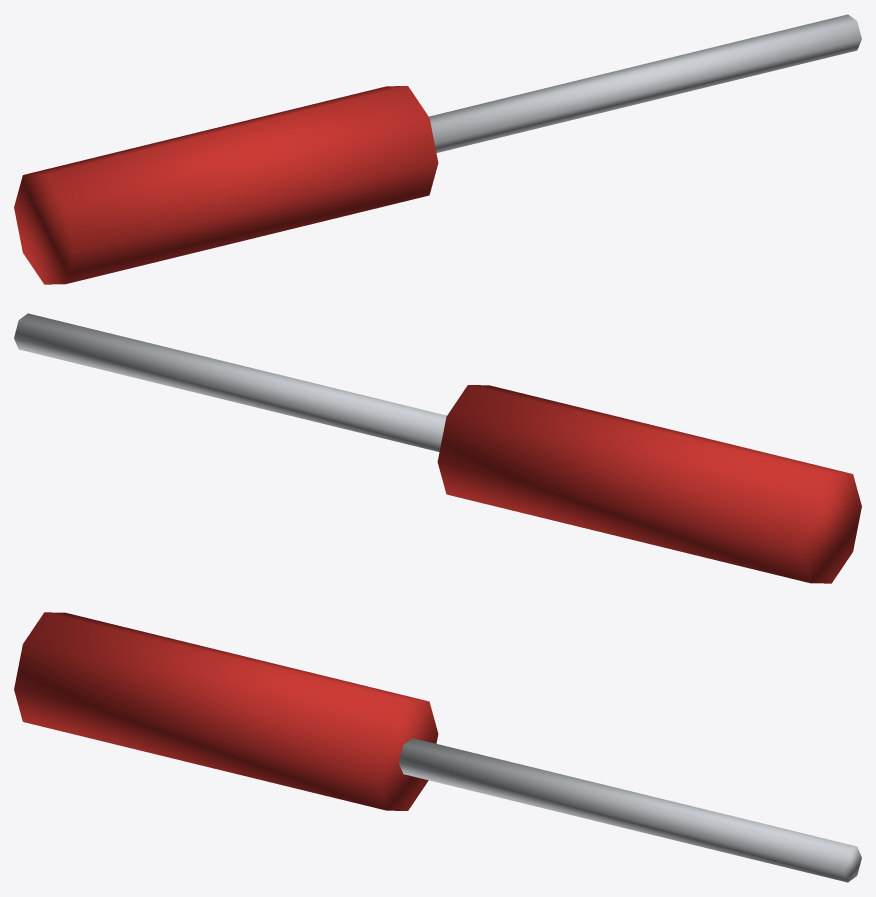
File: screwdriver.glb
The picture shows the model from 3 angles, top to bottom: view 1: azimuth 30°, elevation 25°; view 2: azimuth 150°, elevation 25°; view 3: azimuth 330°, elevation 25°; orthographic projection.
Visible parts, largest first — view 1: Item; view 2: Item; view 3: Item.
Part boxes in pixels (box(x1,y1,x2,y2)): Item: box(14, 14, 861, 284); Item: box(14, 313, 861, 583); Item: box(14, 612, 861, 882).
Size of the model in its own units: 0.2 by 0.026 by 0.026.
